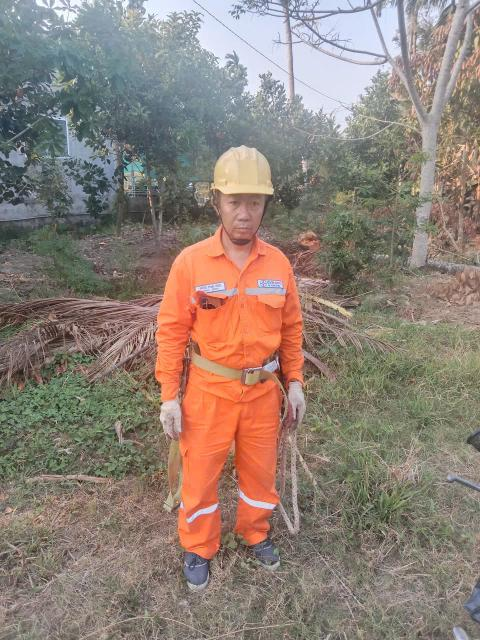gloves: (151, 392, 193, 444), (279, 379, 309, 434)
harness: (175, 339, 314, 393)
helmet: (189, 130, 297, 203)
shoes: (179, 539, 215, 593), (245, 525, 284, 572)
